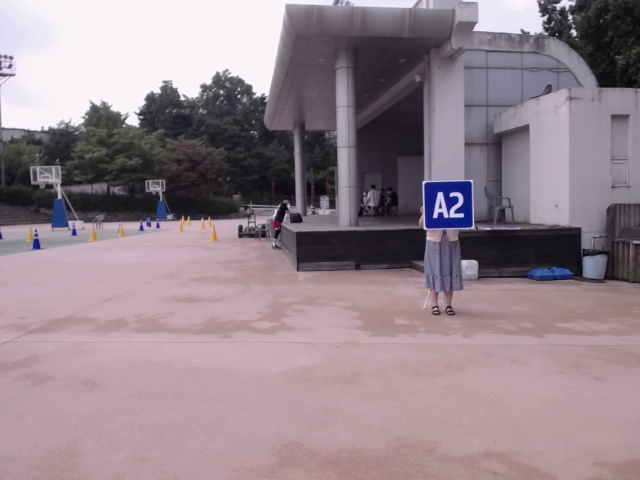delivery_a2: (423, 180, 474, 230)
